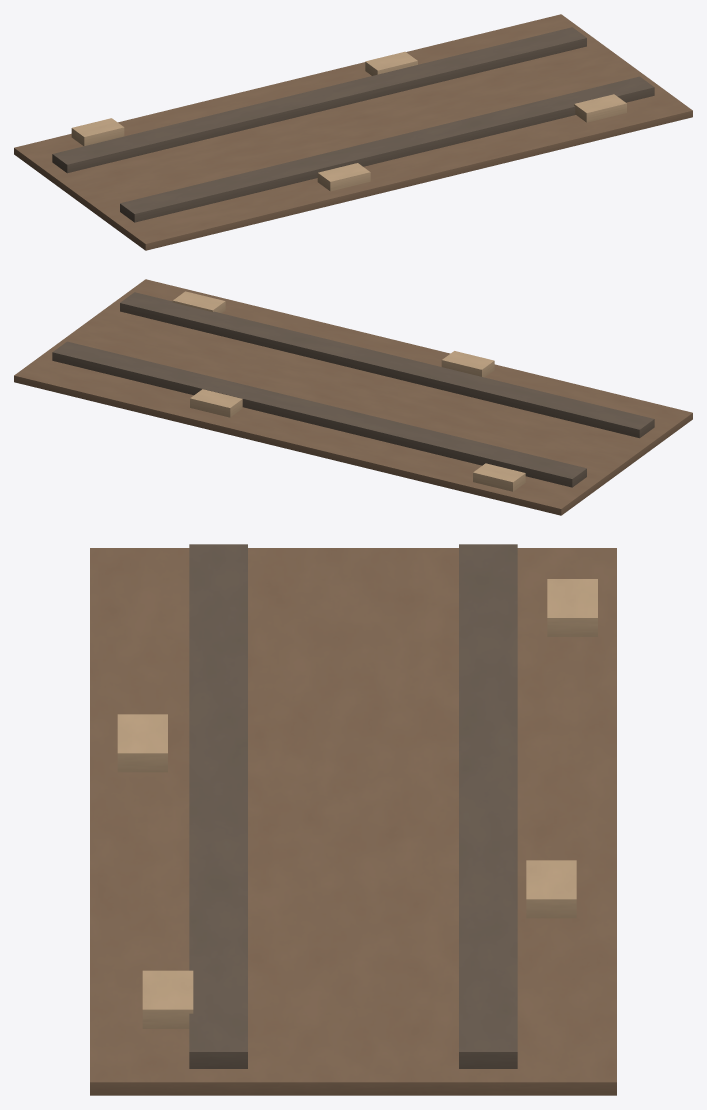
Rendered from mud_rut_decal.glb.
The picture shows the model from 3 angles, top to bottom: view 1: azimuth 30°, elevation 25°; view 2: azimuth 150°, elevation 25°; view 3: azimuth 270°, elevation 25°; orthographic projection. The views are drawn at different scales.
Visible parts, largest first — view 1: mud_rut_decal; view 2: mud_rut_decal; view 3: mud_rut_decal.
Part boxes in pixels (left/top/right/bottom): mud_rut_decal: left=14, top=14, right=692, bottom=250; mud_rut_decal: left=14, top=279, right=692, bottom=515; mud_rut_decal: left=90, top=544, right=616, bottom=1095.
Bounding box in the file's own units: 3 × 0.0895 × 1.25.
Materials: 1 (1 with a texture image).
